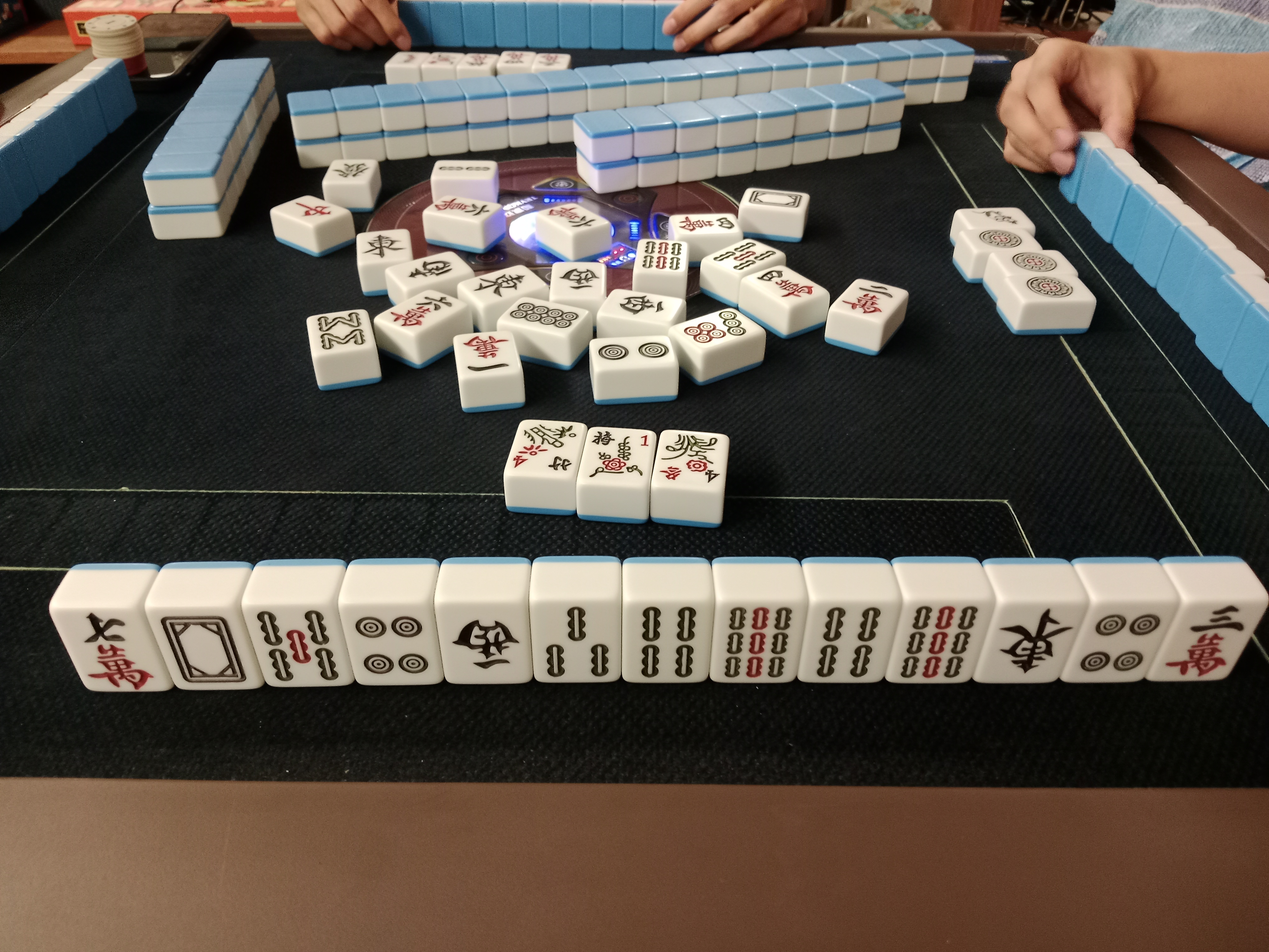TILE: (49, 605, 159, 693), (432, 600, 537, 684), (1164, 600, 1269, 682), (247, 608, 354, 686), (797, 601, 897, 683), (526, 600, 625, 682), (346, 605, 445, 685), (713, 599, 808, 682), (158, 608, 256, 688), (890, 604, 990, 680), (981, 604, 1078, 680), (624, 599, 714, 680), (1076, 601, 1167, 679), (501, 416, 587, 482), (580, 426, 656, 489), (653, 429, 730, 490)
